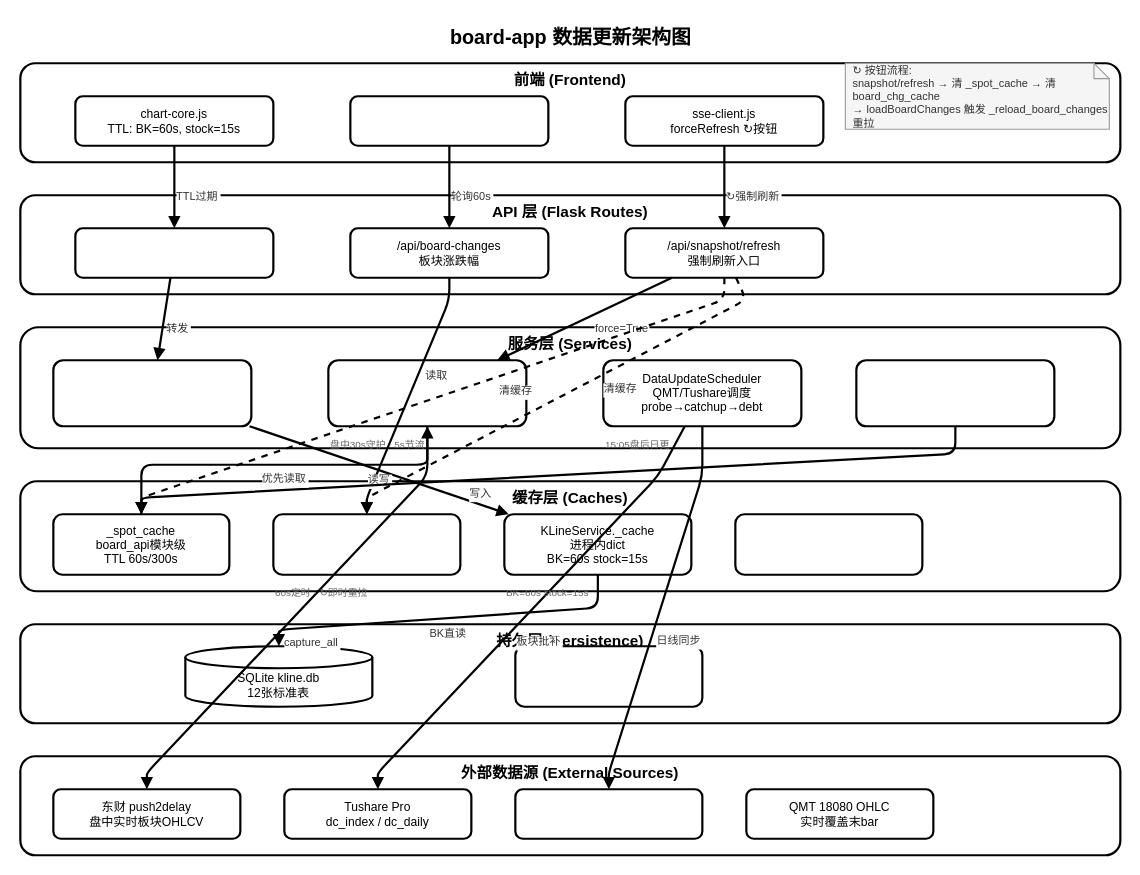
Image size: 1140x875. Some labels were removed from this diagram. The centre of each missing label's shape, as x and y in pixels:
/api/kline/* K线数据服务: pixel 174 252
board_api _get_spot 盘中读snapshot 回退东财/Tushare: pixel 955 393
board_chg_cache AppContext 级 60s定时 · ↻即时重拉: pixel 366 544
BoardDatafeed._cache 前端JS Map LRU hot max=10: pixel 828 544
BoardSnapshotCache 东财实时快照 · 5s节流 盘中30s守护: pixel 427 393
CSV 历史文件 板块K线降级存储: pixel 608 676
KlineService K线读写 · 多级缓存 stale fast path: pixel 152 393
nav-panel.js loadBoardChanges 轮询60s: pixel 449 120
QMT 58600 RPC 指数/个股日线+分钟线: pixel 608 813
